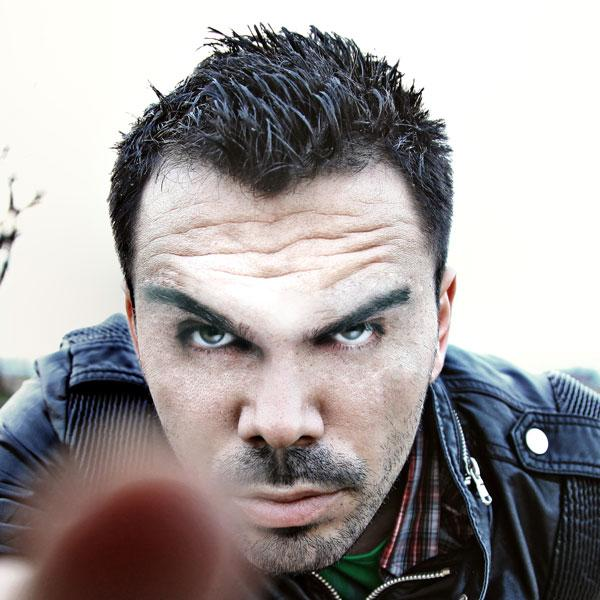Eyes: (162, 308, 254, 365), (302, 309, 395, 359)
